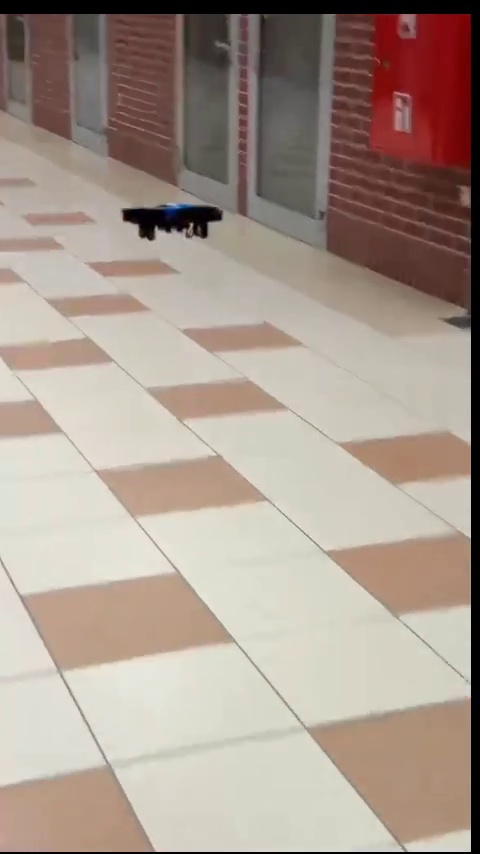drone: (123, 199, 221, 240)
